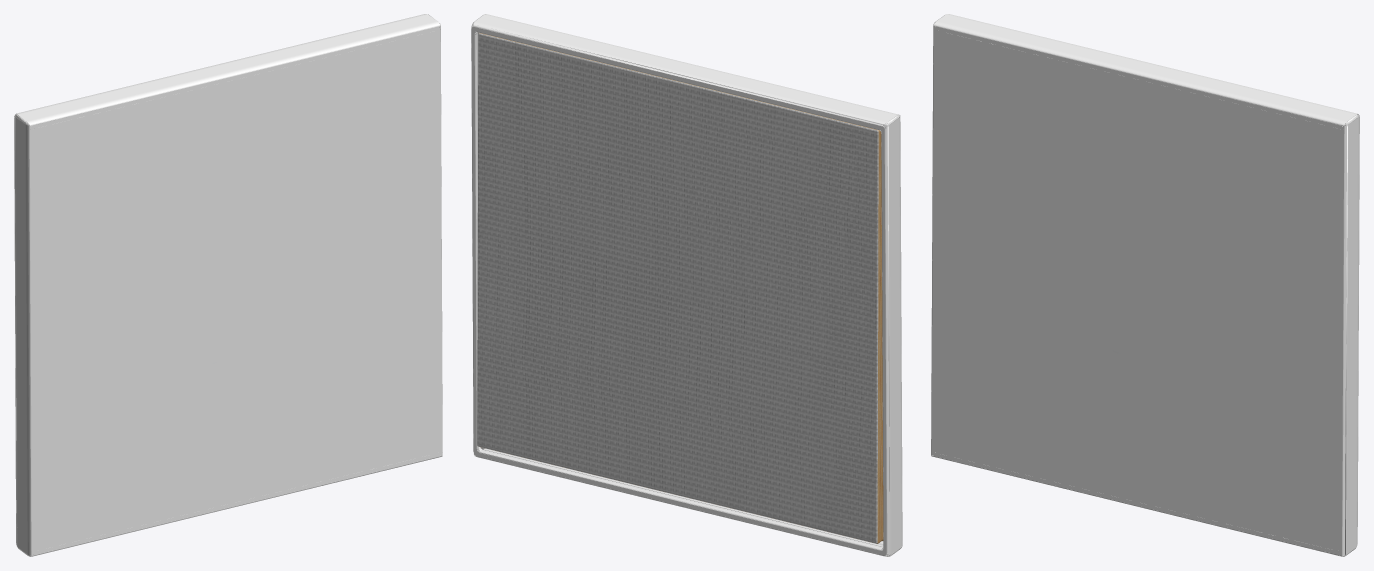
File: canvas-square.glb
3 views of the same model, side by side, from view 1: azimuth 30°, elevation 25°; view 2: azimuth 150°, elevation 25°; view 3: azimuth 330°, elevation 25° (orthographic).
Visible parts, largest first — view 1: canvas-print_0.009; view 2: canvas-print_0.009; view 3: canvas-print_0.009.
Boxes of the visible parts, box(x1,y1,x2,y2) form: canvas-print_0.009: box(14, 14, 442, 556); canvas-print_0.009: box(471, 14, 902, 556); canvas-print_0.009: box(931, 14, 1359, 556).
Bounding box in the file's own units: 1.04 × 1.04 × 0.0817.
Materials: 2 (2 with a texture image).
